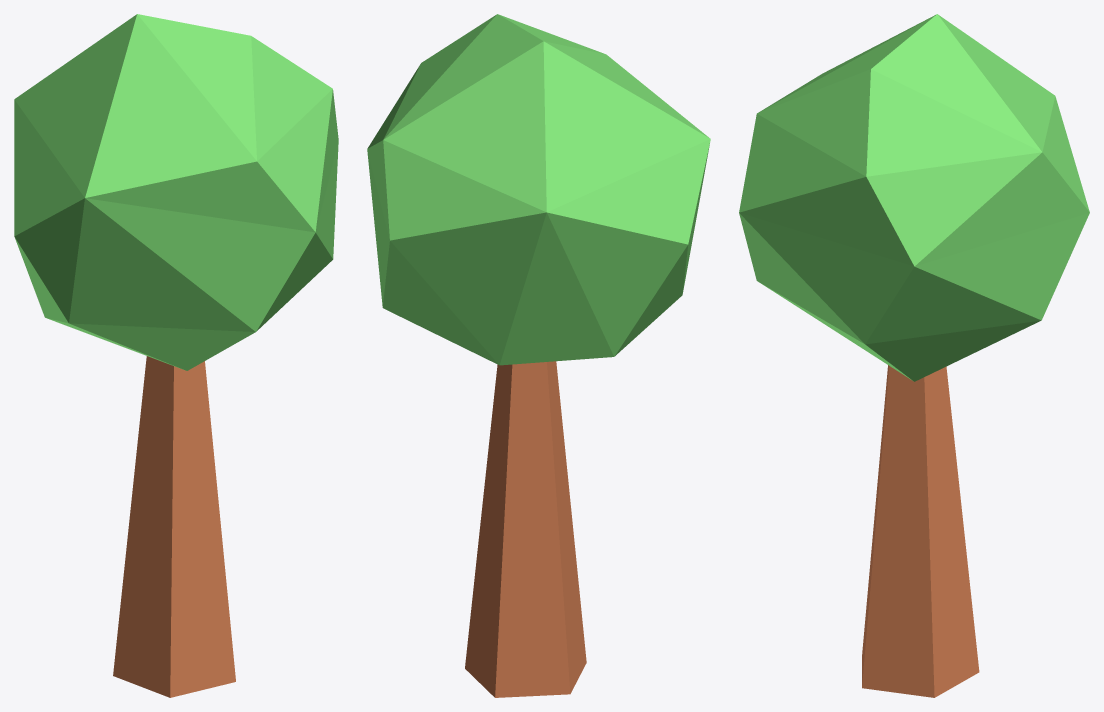
The model's file is TreeSingle.fbx.
3 views of the same model, side by side, from view 1: azimuth 30°, elevation 25°; view 2: azimuth 150°, elevation 25°; view 3: azimuth 270°, elevation 25° (orthographic).
Parts seen in each view (by area): view 1: Leaf, Trunk; view 2: Leaf, Trunk; view 3: Leaf, Trunk.
Boxes of the visible parts, bbox=[...] form: Leaf: bbox=[14, 14, 338, 370]; Trunk: bbox=[113, 356, 235, 697]; Leaf: bbox=[367, 14, 710, 365]; Trunk: bbox=[465, 361, 586, 697]; Leaf: bbox=[739, 14, 1089, 381]; Trunk: bbox=[862, 365, 979, 697].
Size of the model in its own units: 201 by 388 by 191.
